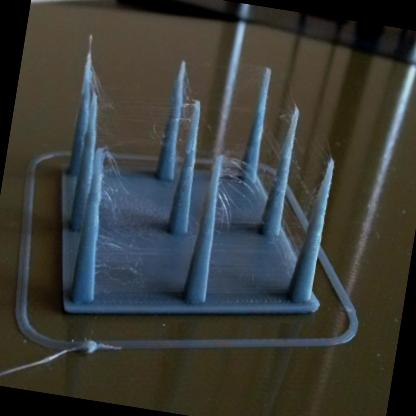fail: (213, 157, 246, 236), (95, 152, 128, 215)
